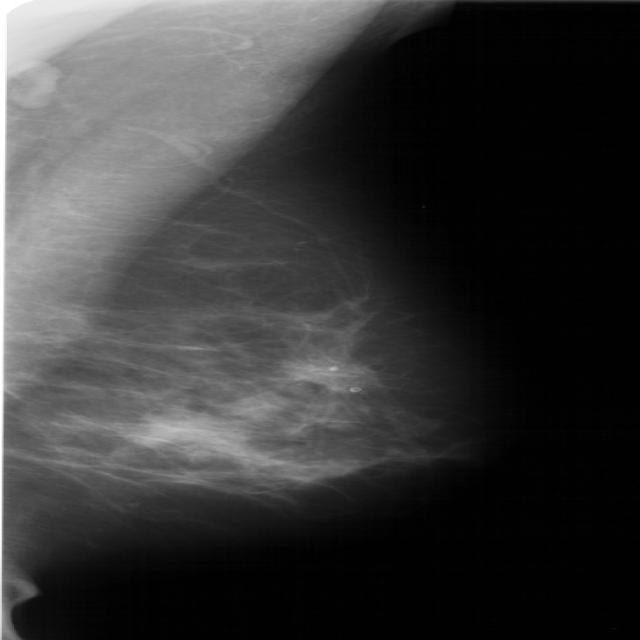tumour: (279, 356, 368, 388)
